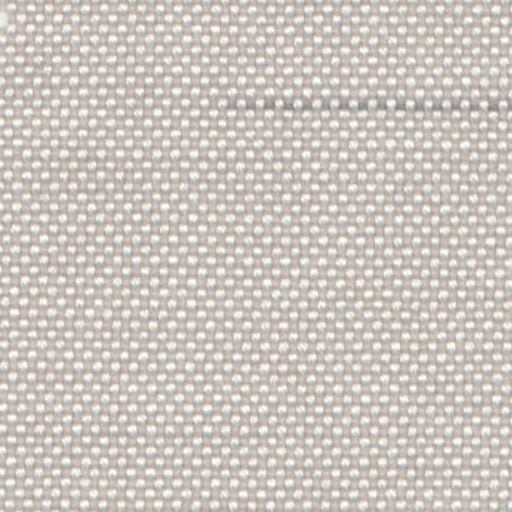WuZi: (232, 86, 505, 124)
